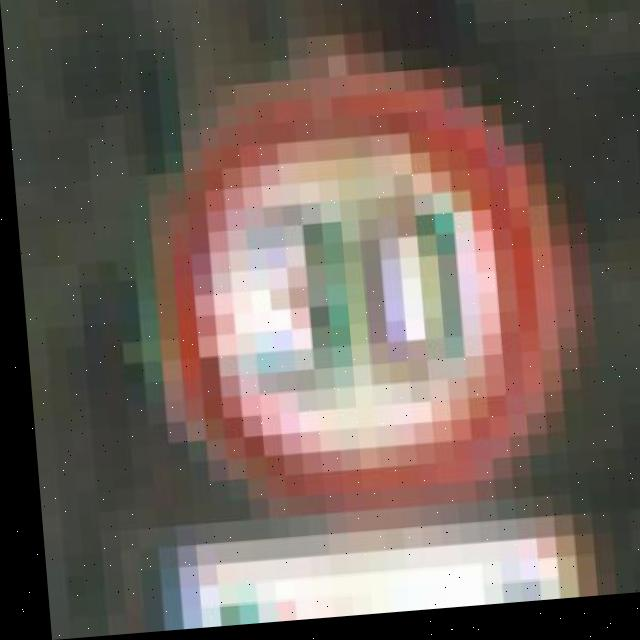Speed limit 30: (141, 53, 576, 531)
